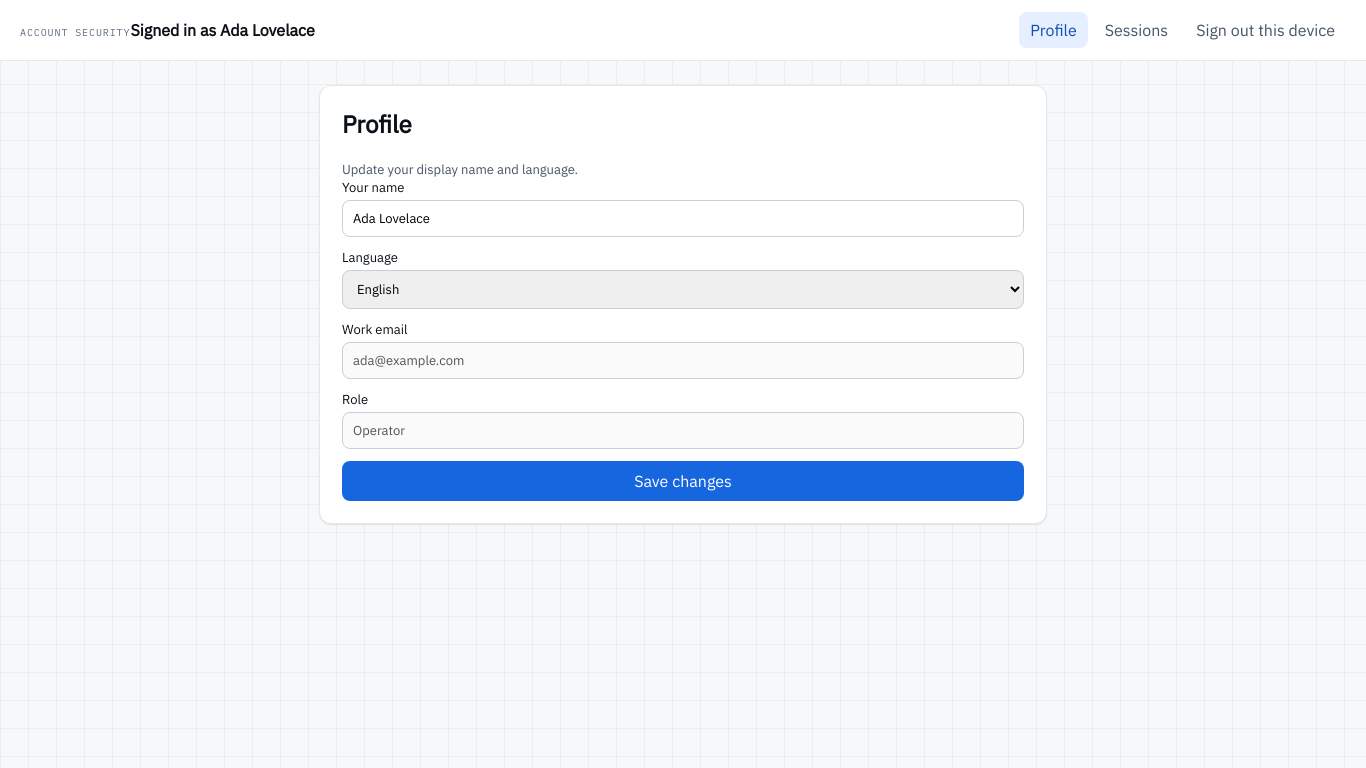
AccountShell › saves profile changes and applies the language
Replace the text in the field labelled "Your name" with "Ada L." at (683, 219), box x1=342 y1=200 x2=1024 y2=237
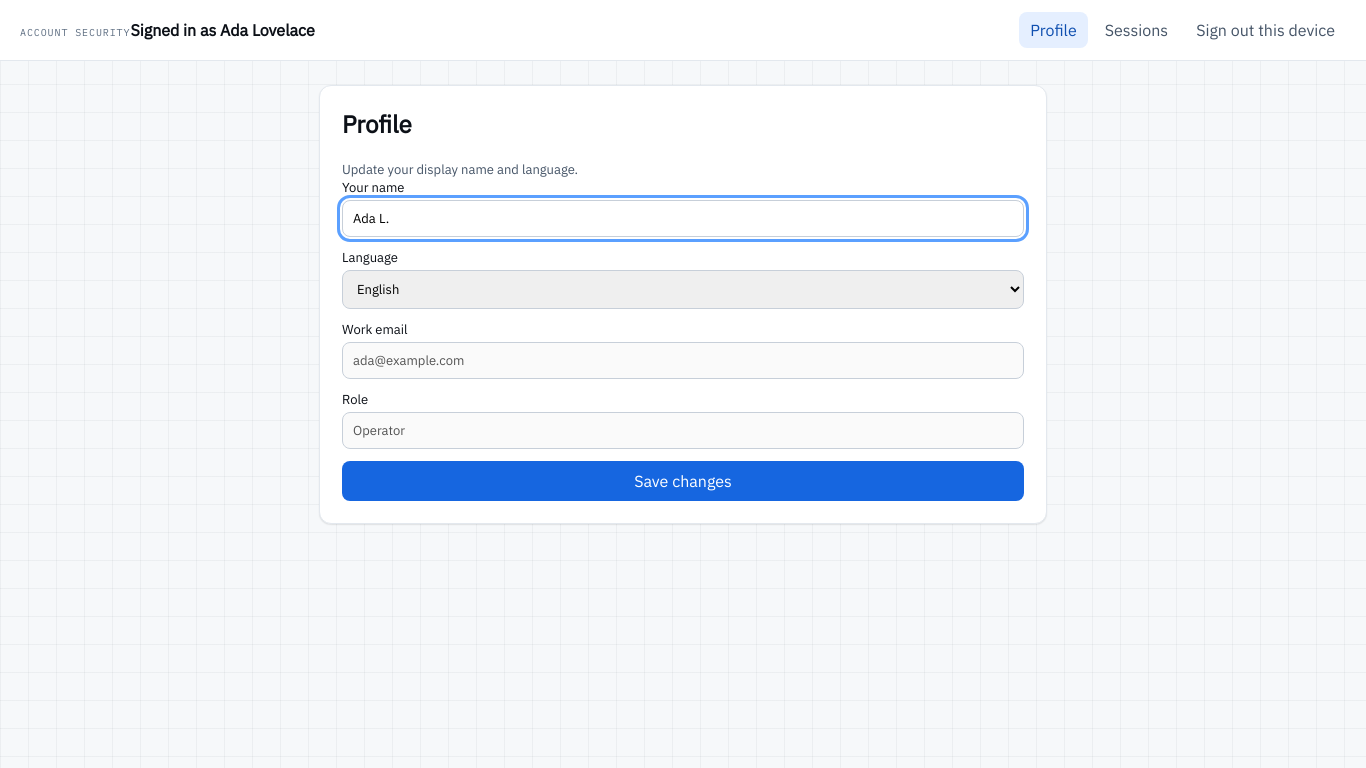
Select "Português" in the dropdown labelled "Language" at (683, 290), box x1=342 y1=270 x2=1024 y2=309
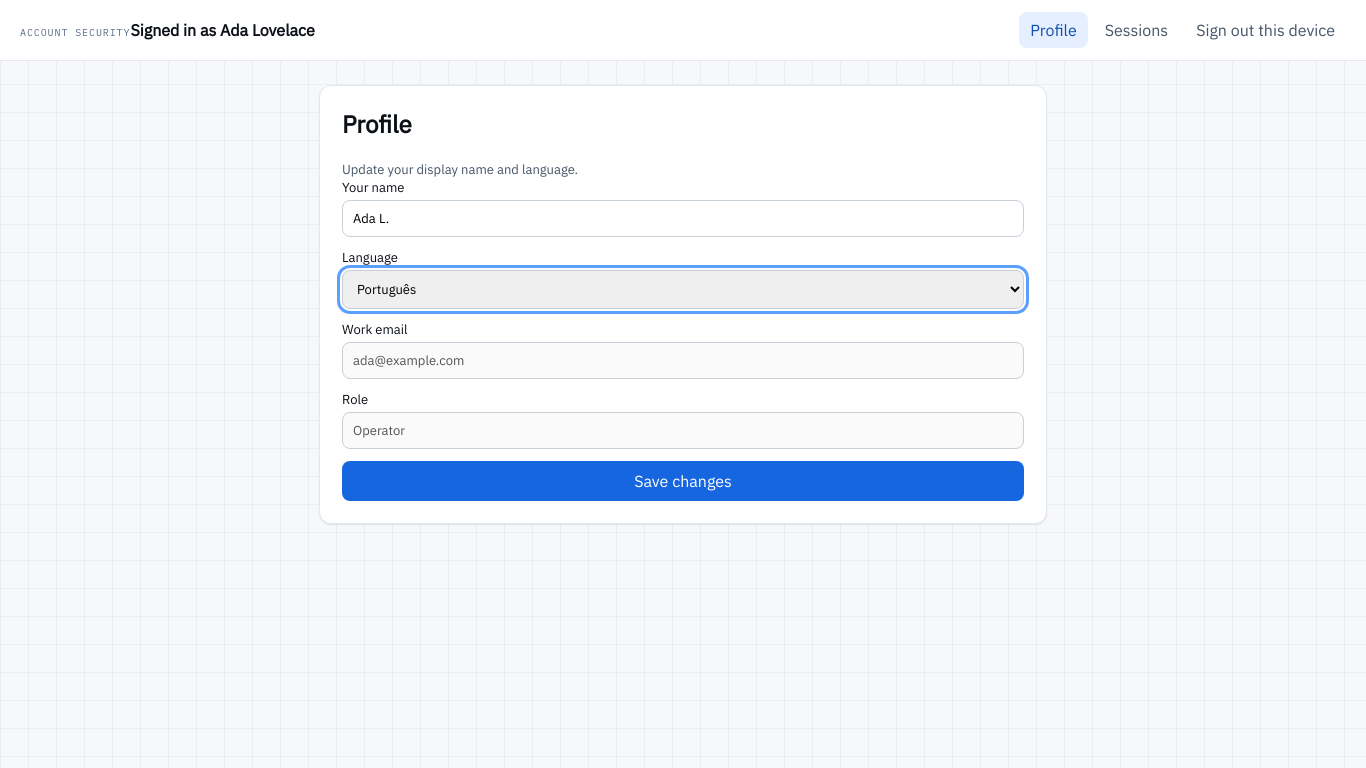
Expected: the heading "Profile" is shown, x1=342 y1=108 x2=412 y2=140
Click the button "Save changes" at (683, 481), box x1=342 y1=461 x2=1024 y2=501
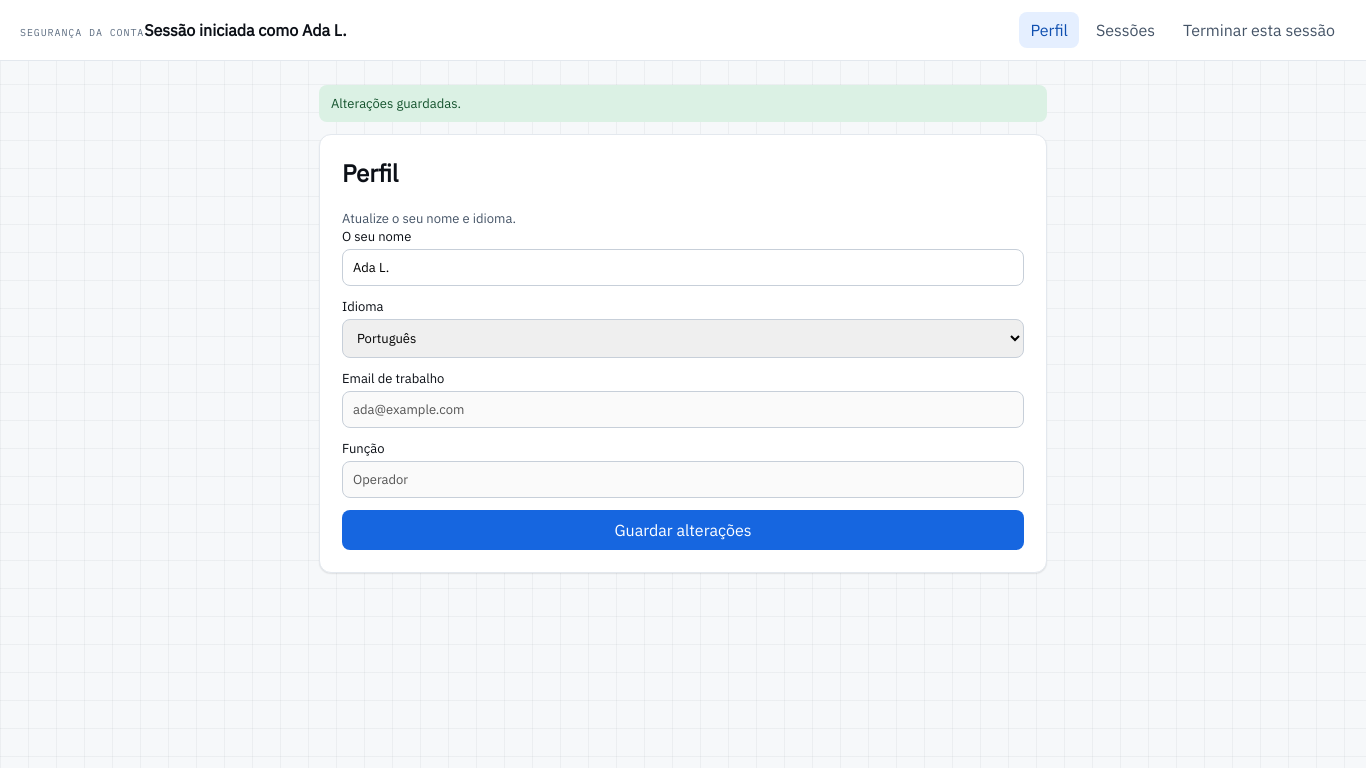
Result: the message reads "Alterações guardadas." at x1=331 y1=95 x2=461 y2=112
